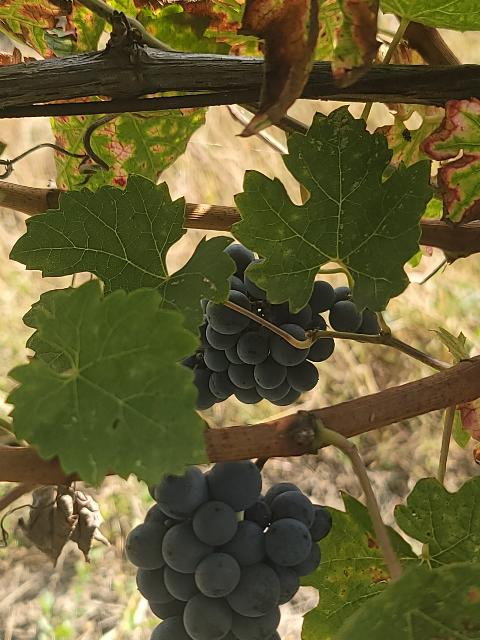grapes: (125, 460, 331, 640), (181, 301, 332, 410), (225, 244, 369, 340)
